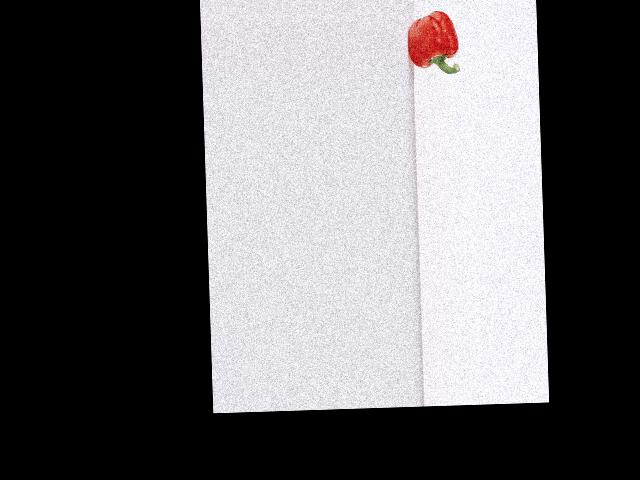bell_pepper: (404, 7, 462, 81)
